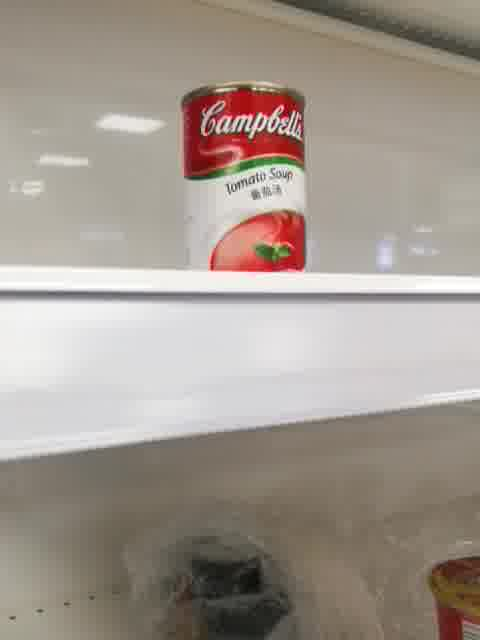tomatosoup: (178, 79, 310, 275)
